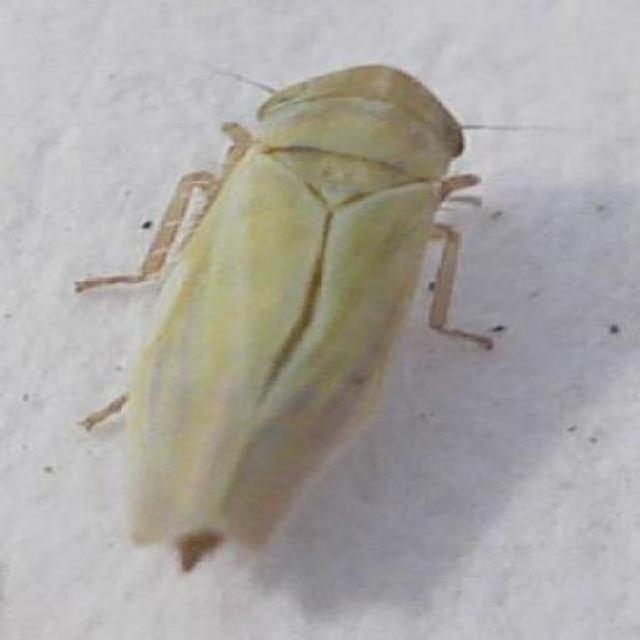green-leafhopper: (120, 65, 466, 552)
